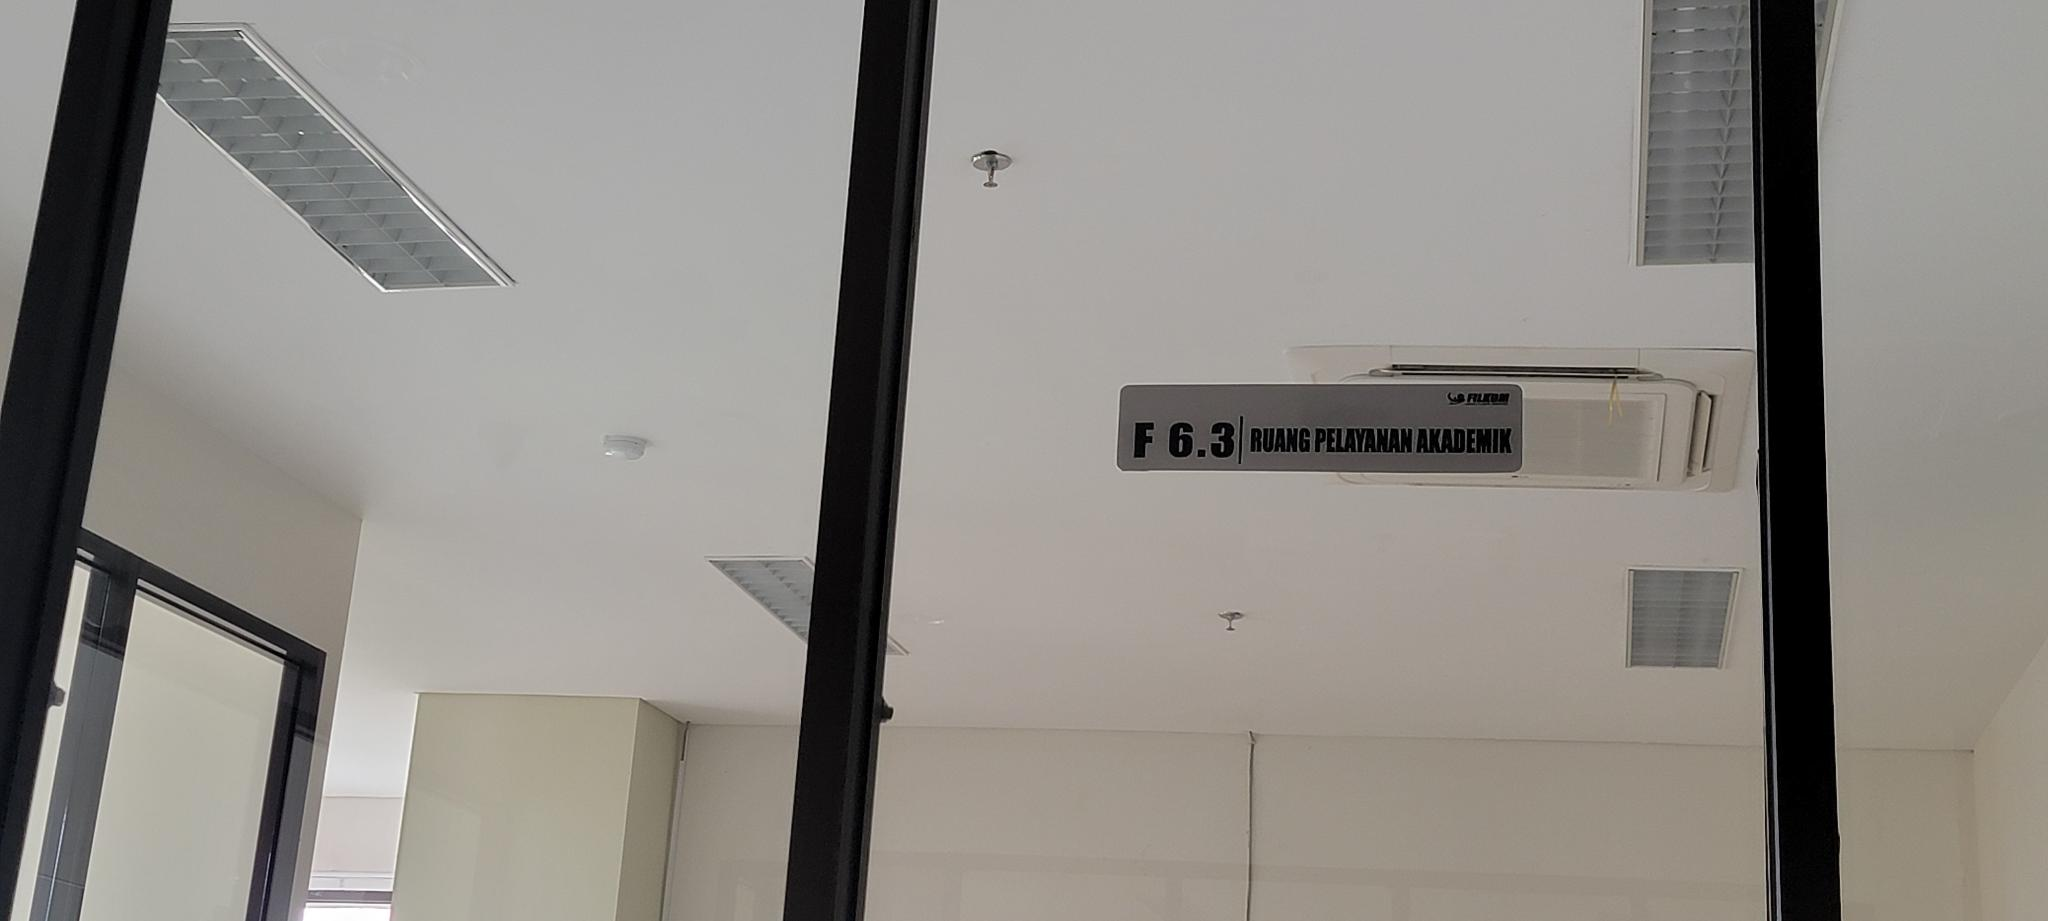plate: (1118, 384, 1526, 474)
